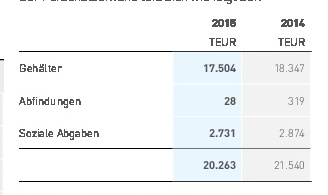table: (0, 0, 328, 195)
